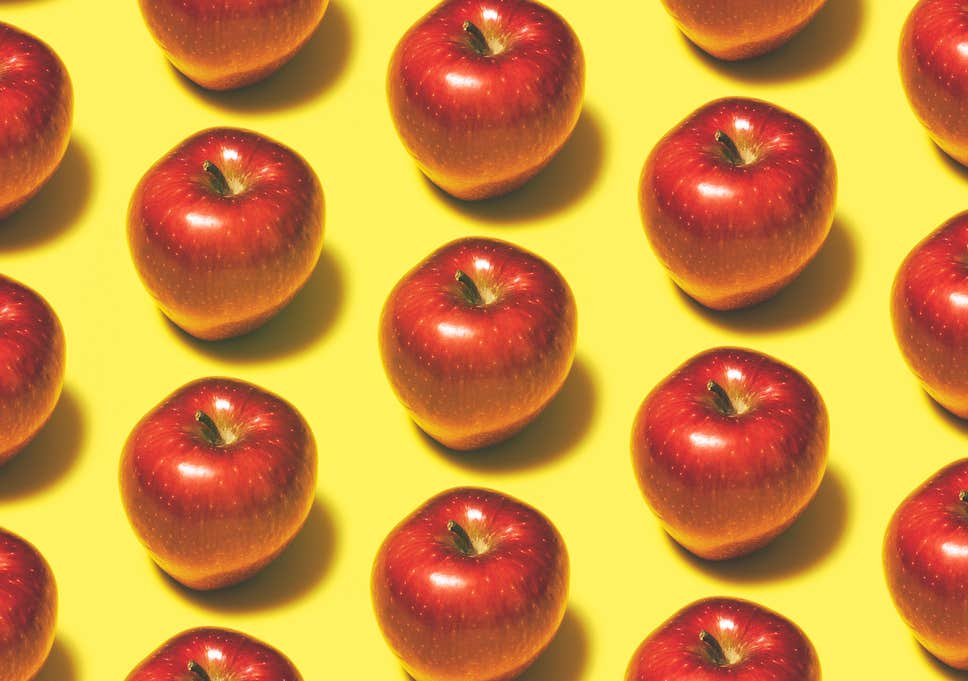apple: (380, 238, 579, 455), (641, 96, 838, 310), (129, 129, 325, 343), (125, 378, 317, 596), (637, 349, 831, 558), (391, 4, 585, 204), (374, 487, 571, 681)
